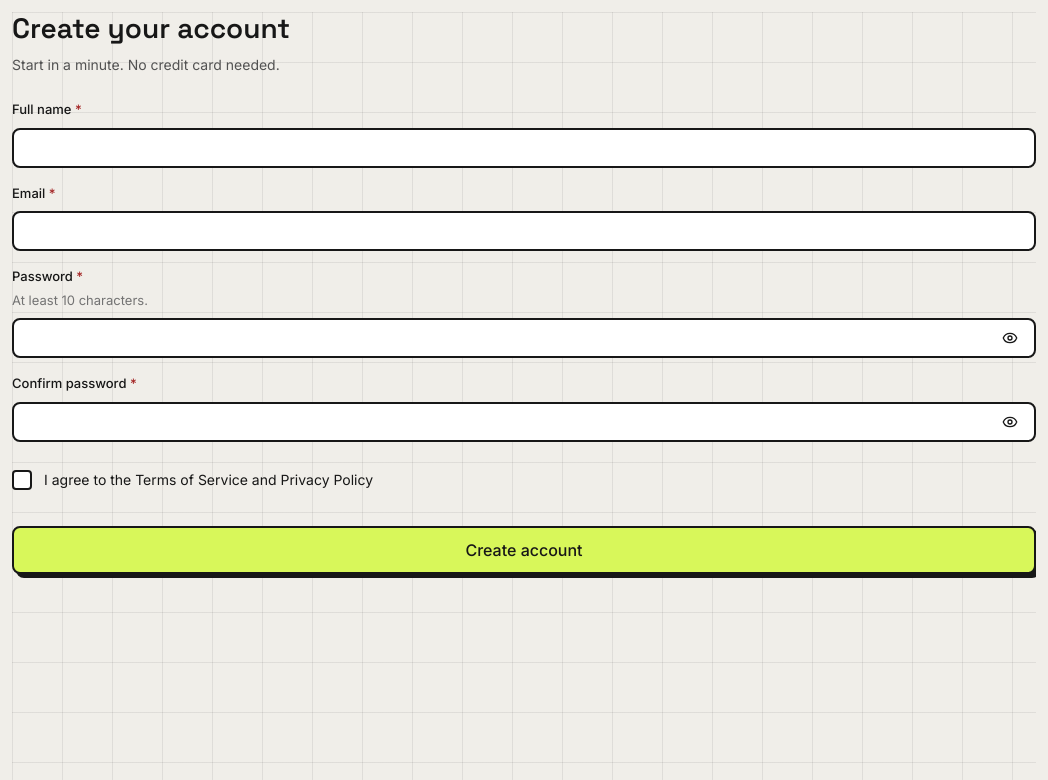
Test case: RegisterForm › rejects short passwords, using the configured minimum
The image size is (1048, 780).
Expected: the text "At least 10 characters." is shown, [12,292,148,308]
Type "Ann" into the field labelled "Full name *". click: (524, 148)
box: [26,130,1022,166]
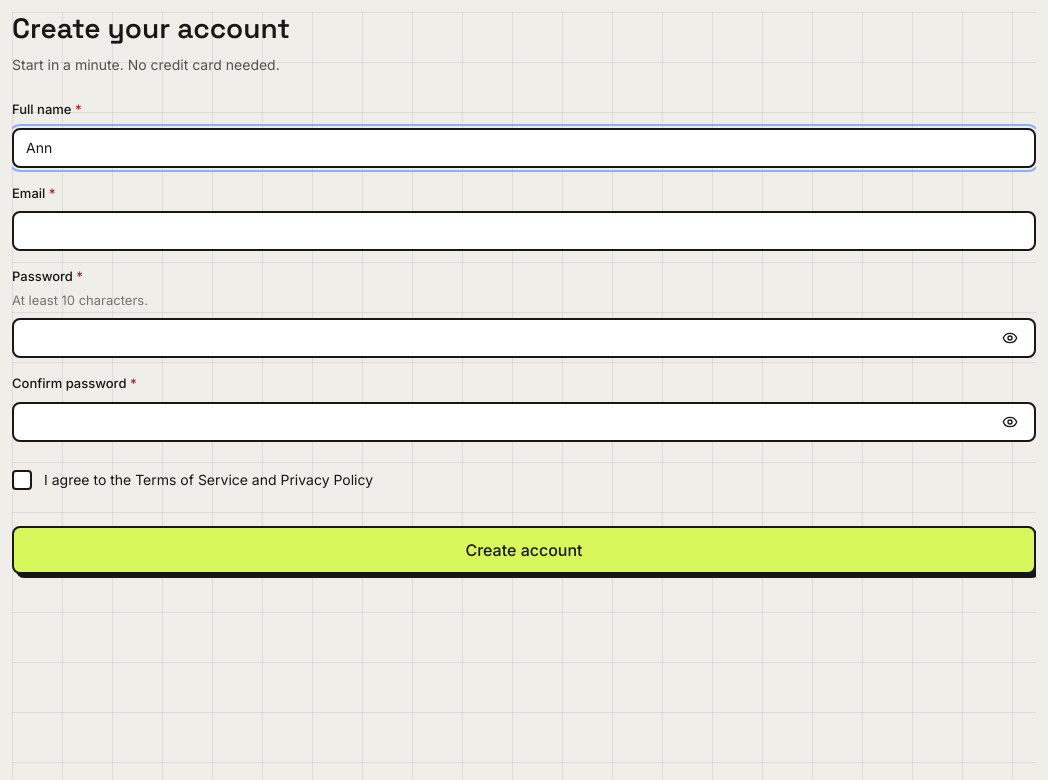
Type "ann@example.com" into the field labelled "Email *". click: (524, 231)
box: [26,213,1022,249]
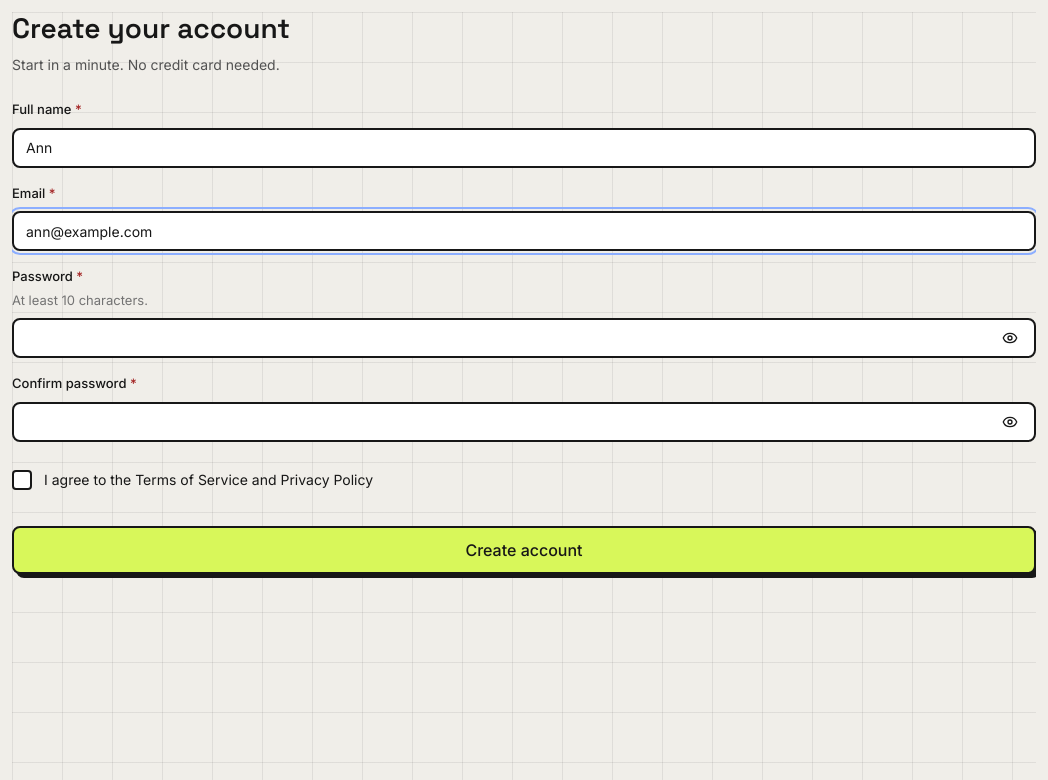
Type "short" into the password field labelled "Password *". click: (508, 338)
box: [26,320,990,356]
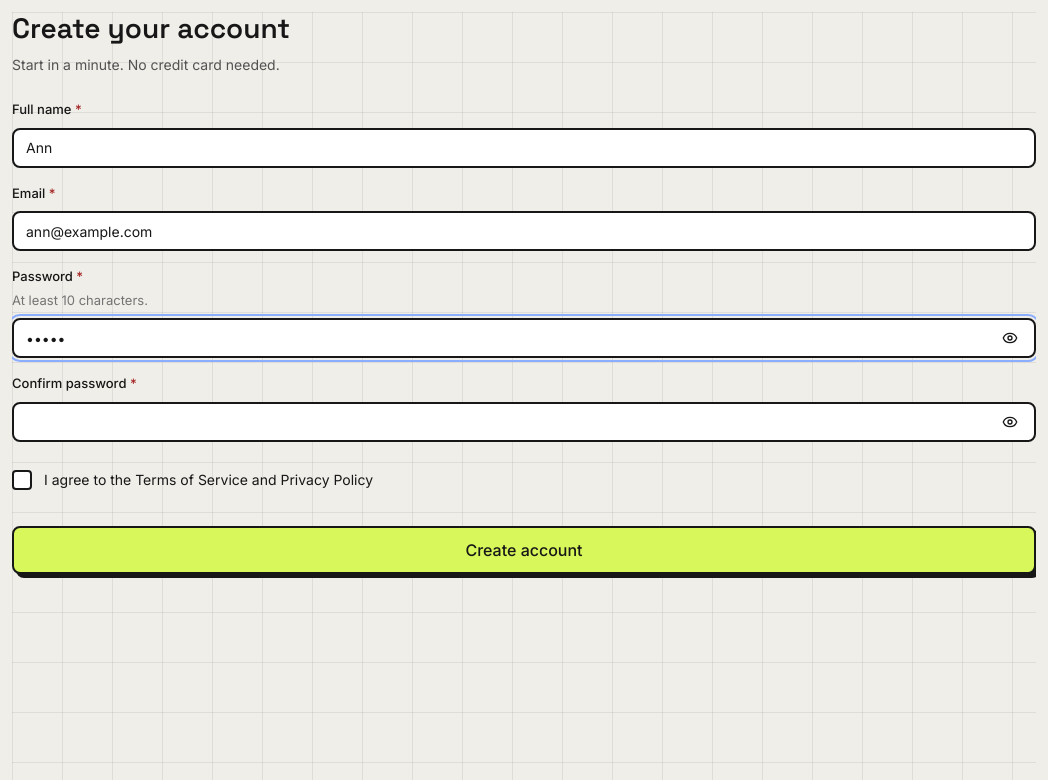
Type "short" into the password field labelled "Confirm password *". click: (508, 422)
box: [26,404,990,440]
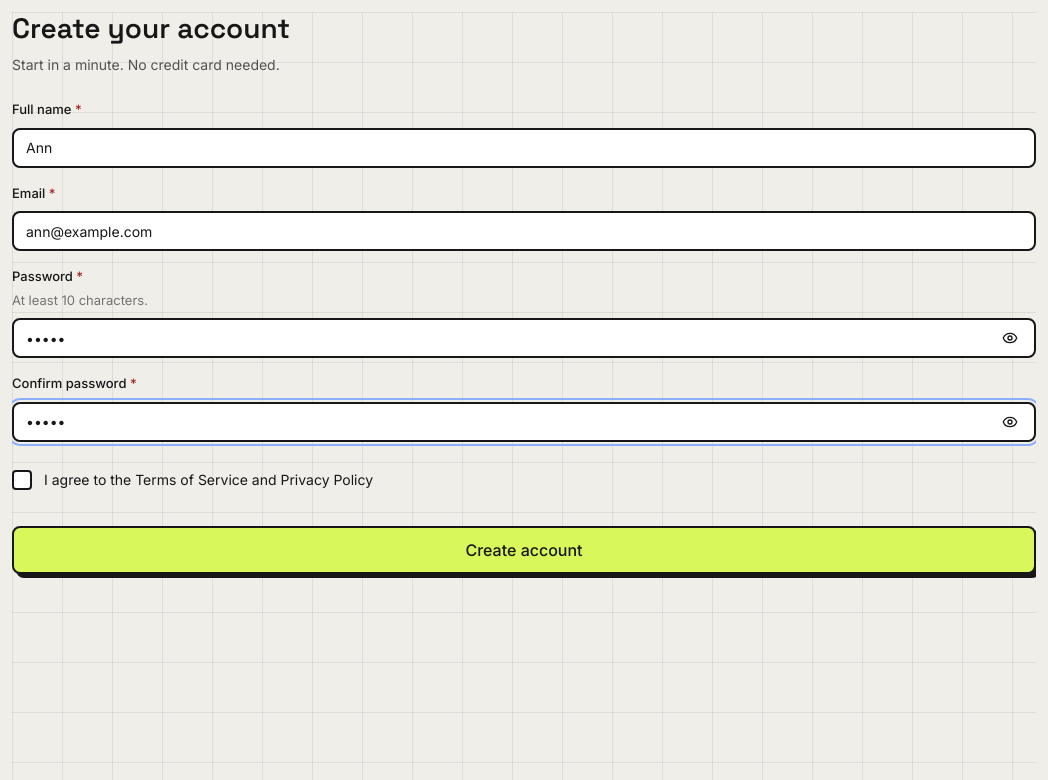
Click the checkbox. click: (193, 480)
box: [12,470,373,490]
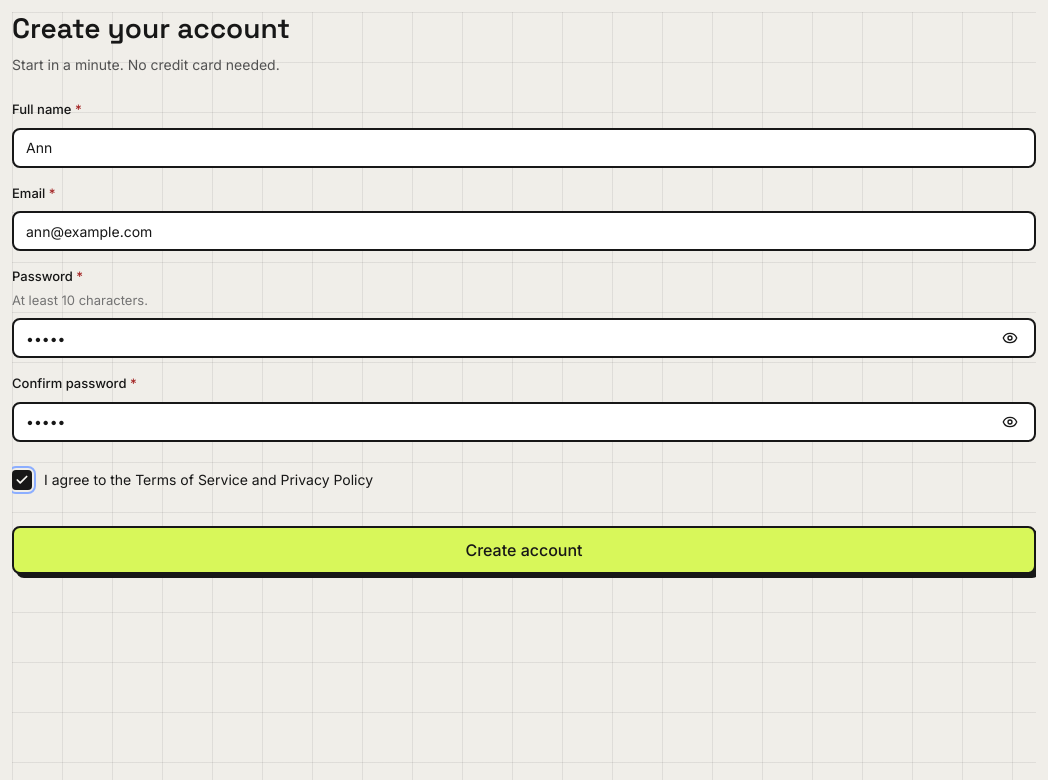
Click the button "Create account". click: (524, 550)
box: [12,526,1036,574]
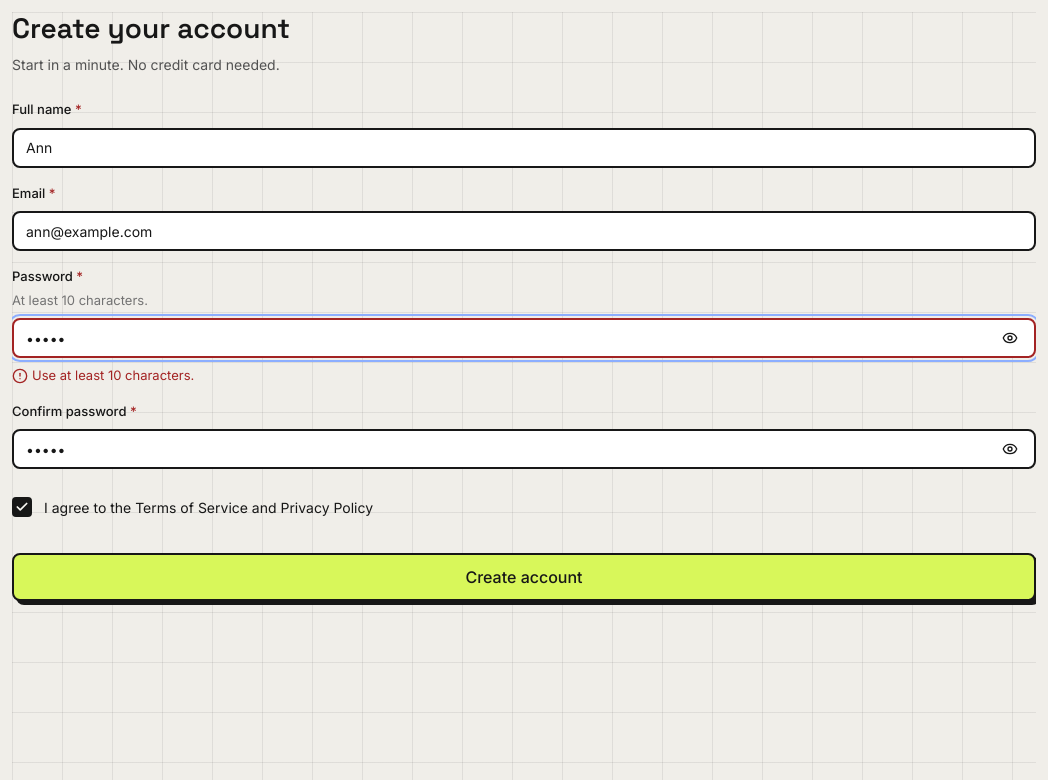
Expected: the text "Use at least 10 characters." is shown, [32,366,194,386]
